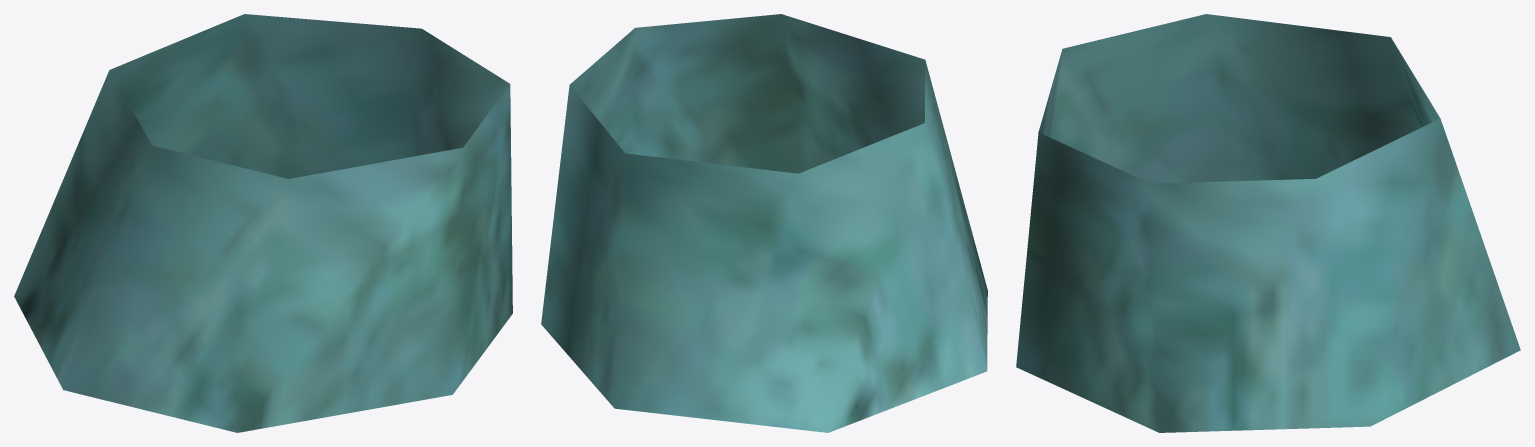
Rendered from EKH_GROTTO_PS_GR_OBJECT51.fbx.
3 views of the same model, side by side, from view 1: azimuth 30°, elevation 25°; view 2: azimuth 150°, elevation 25°; view 3: azimuth 270°, elevation 25° (orthographic). The views are drawn at different scales.
Parts seen in each view (by area): view 1: EKH_GROTTO_PS_GR_OBJECT51; view 2: EKH_GROTTO_PS_GR_OBJECT51; view 3: EKH_GROTTO_PS_GR_OBJECT51.
Boxes of the visible parts, left/top/right/bottom form: EKH_GROTTO_PS_GR_OBJECT51: left=14, top=14, right=512, bottom=432; EKH_GROTTO_PS_GR_OBJECT51: left=541, top=14, right=987, bottom=432; EKH_GROTTO_PS_GR_OBJECT51: left=1016, top=14, right=1520, bottom=432.
Size of the model in its own units: 27753 by 14945 by 27818.
1 material, 1 textured.
